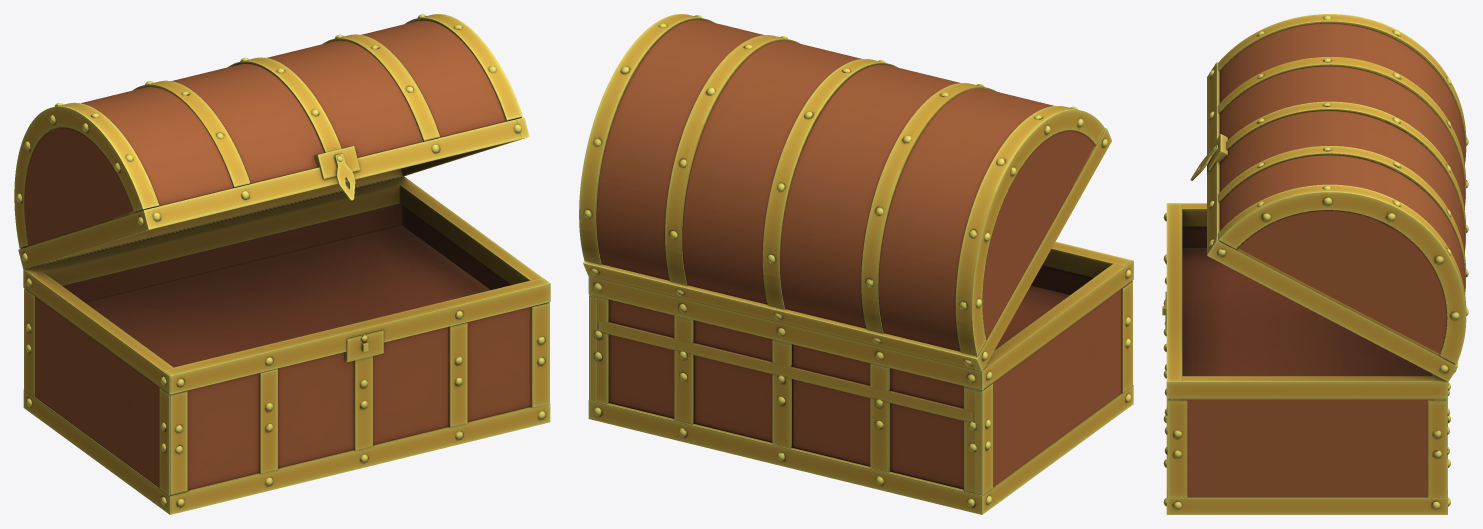
File: 3D_Chest 1.FBX
3 views of the same model, side by side, from view 1: azimuth 30°, elevation 25°; view 2: azimuth 150°, elevation 25°; view 3: azimuth 270°, elevation 25° (orthographic). The views are drawn at different scales.
Visible parts, largest first — view 1: 3D_Chest; view 2: 3D_Chest; view 3: 3D_Chest.
Part boxes in pixels (x1,y1,x2,y2): 3D_Chest: (14,14,550,514); 3D_Chest: (579,14,1133,514); 3D_Chest: (1162,14,1468,514).
Size of the model in its own units: 15.57 by 13.02 by 11.14.
